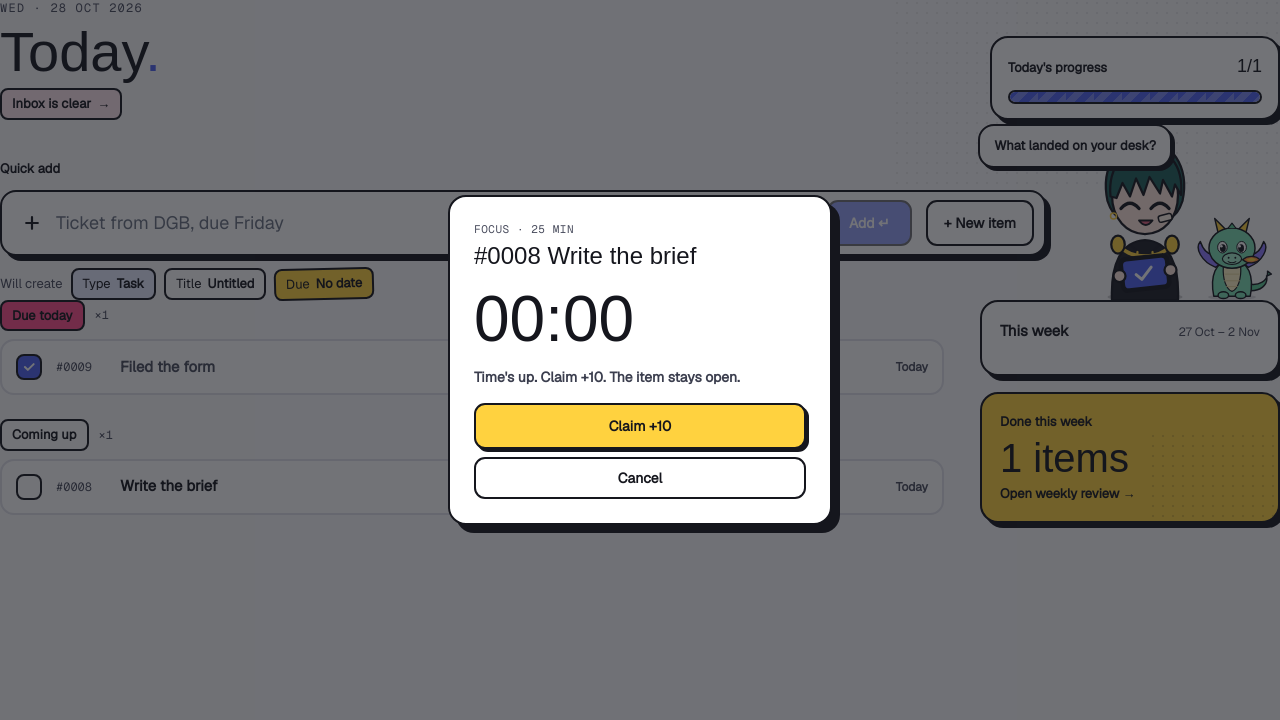
Test: Today focus › restores a finished timer and claims without marking the item done
What coordinates should you click on to do the following:
click the button "Claim +10"
I would click on:
 (640, 426)
Its box is [474,403,806,449].
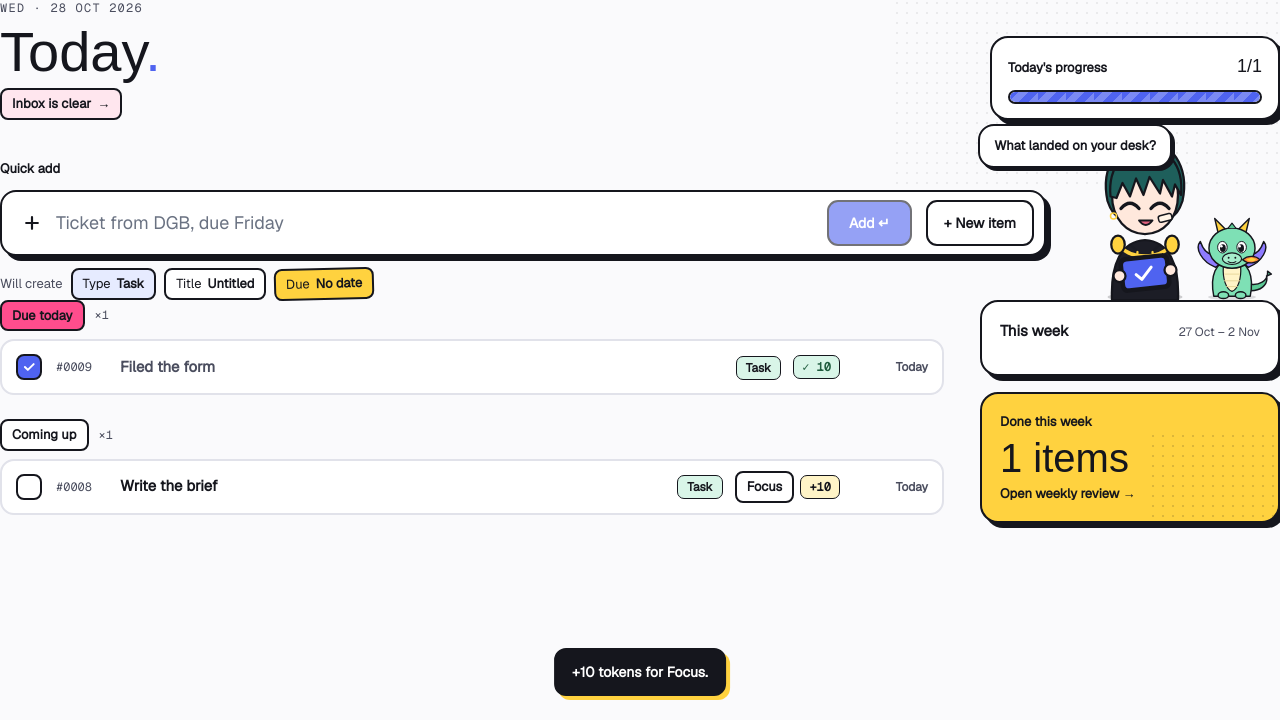
Expected: the button named "Mark done: Write the brief" is shown, [16,474,42,500]
Now the text "+10 tokens for Focus." is shown, box [554,648,726,696]
Now the dialog is gone
